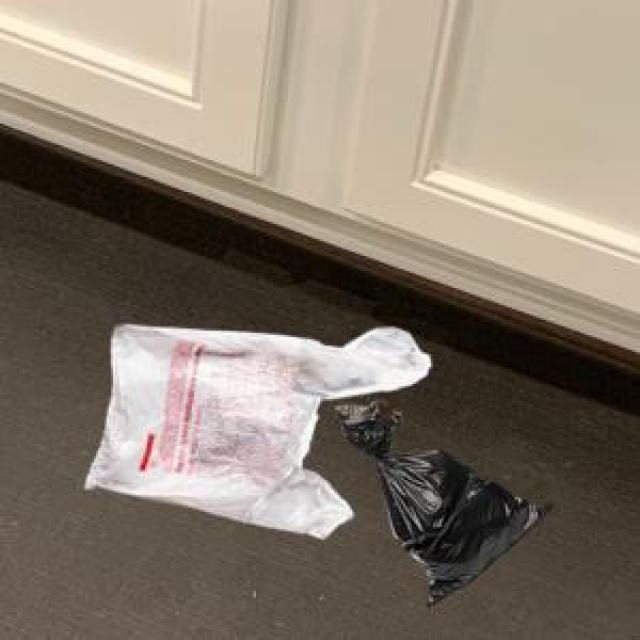miscellaneous trash: (331, 397, 548, 602)
